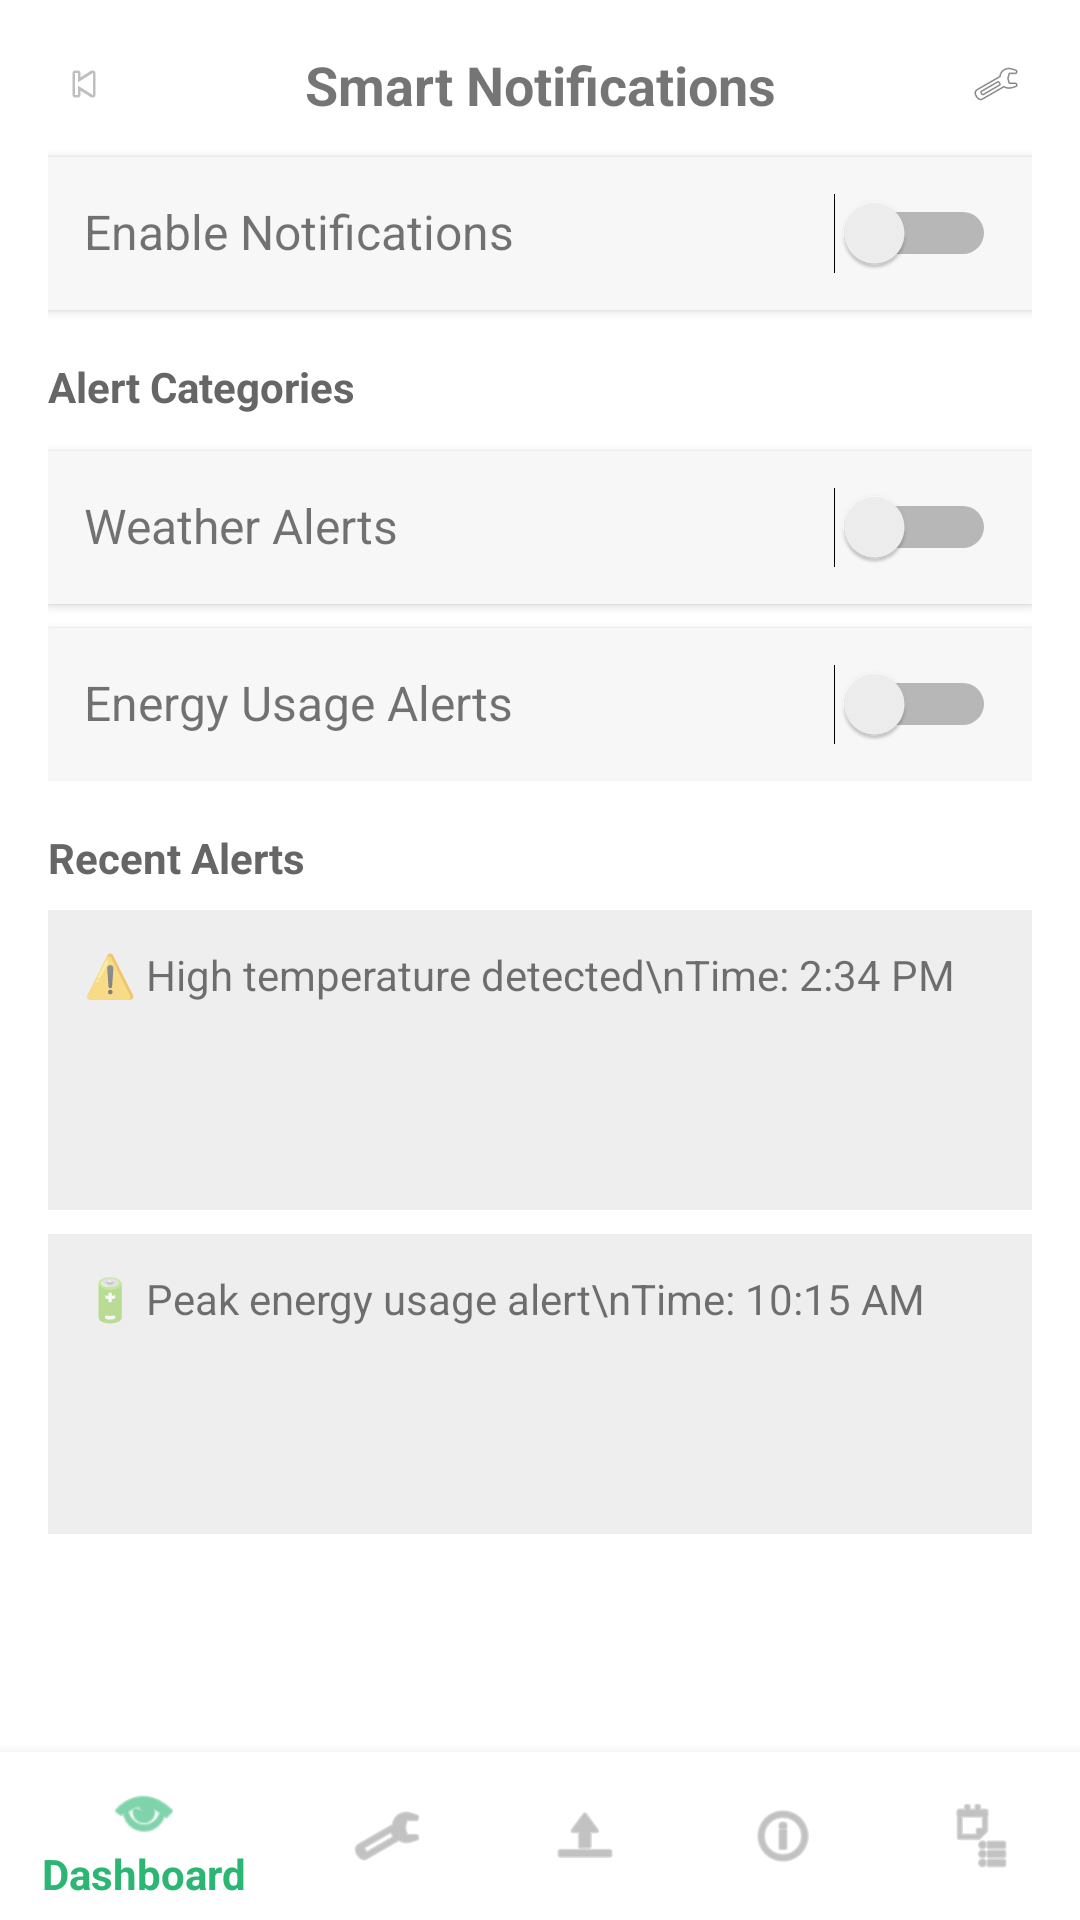

Screen size 1080w x 1920h. Icon name, then its box in pixels as (x1,y1,x2,y2):
Back: (72,70,96,98)
Settings: (974,67,1018,101)
